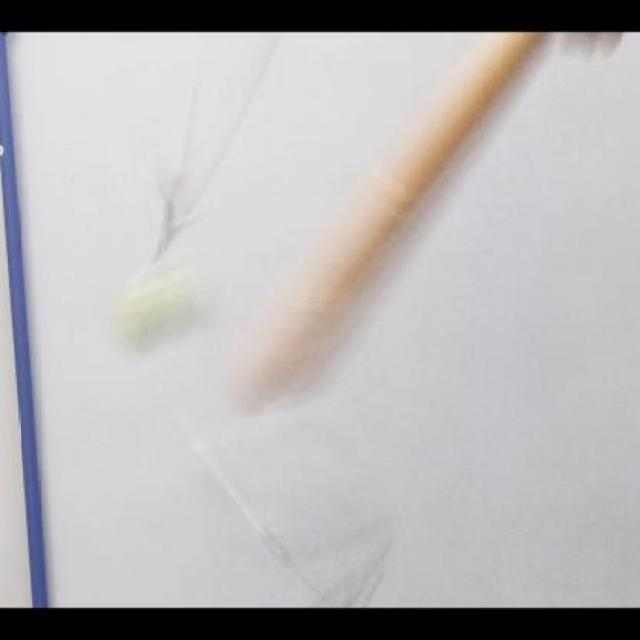baseball: (116, 262, 207, 352)
